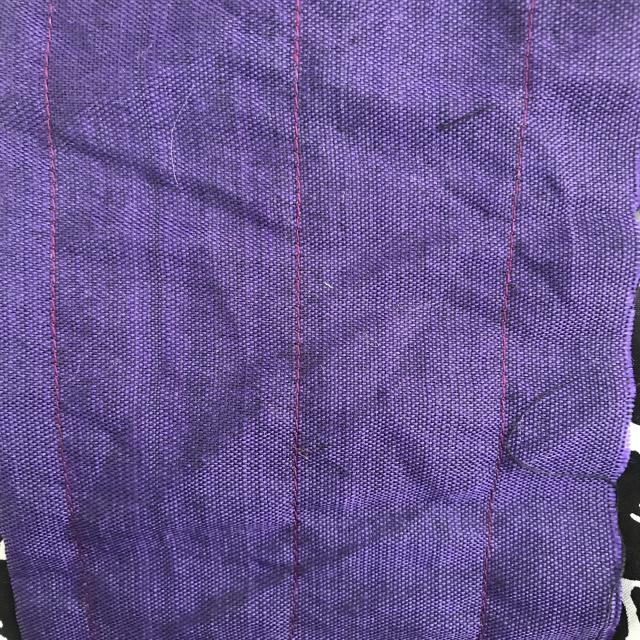good: (36, 278, 79, 493), (277, 290, 324, 462), (282, 37, 320, 245)
